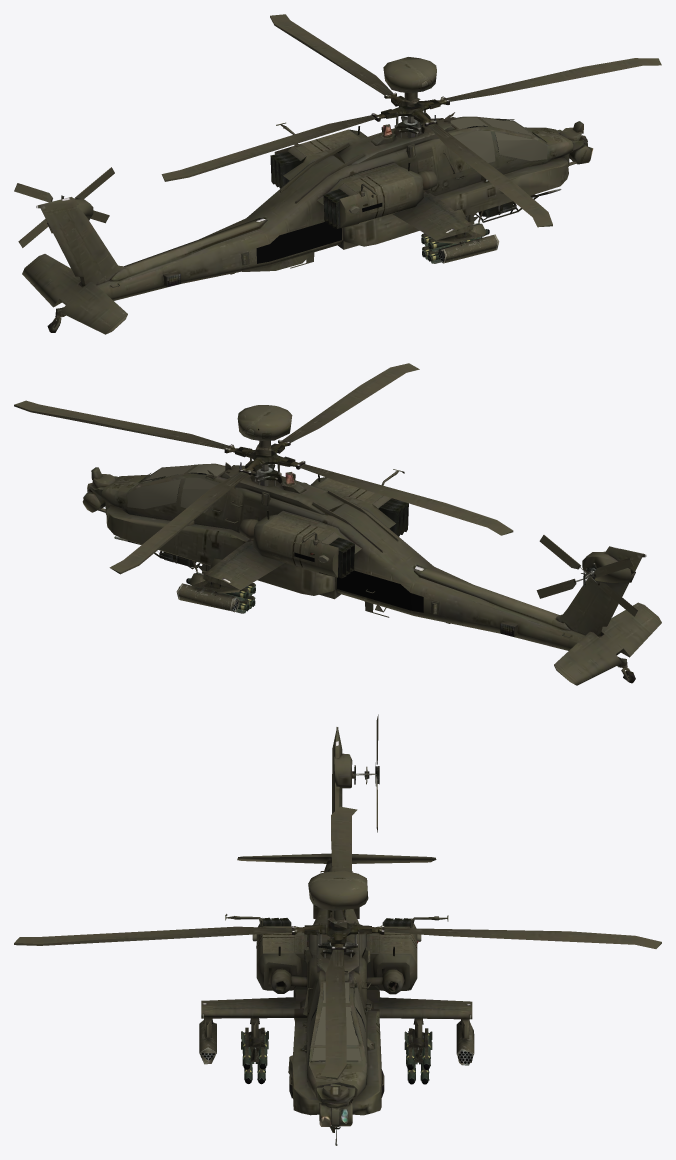
File: apache.lod0.glb
The picture shows the model from 3 angles, top to bottom: view 1: azimuth 30°, elevation 25°; view 2: azimuth 150°, elevation 25°; view 3: azimuth 270°, elevation 25°; orthographic projection. The views are drawn at different scales.
Visible parts, largest first — view 1: Object_8, Object_2, Object_7, Object_6; view 2: Object_8, Object_2, Object_7; view 3: Object_8, Object_7, Object_2, Object_6.
Boxes of the visible parts, bbox=[...] form: Object_8: bbox=[14, 14, 661, 334]; Object_2: bbox=[256, 117, 547, 263]; Object_7: bbox=[383, 57, 499, 263]; Object_6: bbox=[421, 223, 488, 263]; Object_8: bbox=[14, 363, 661, 685]; Object_2: bbox=[127, 464, 423, 612]; Object_7: bbox=[176, 405, 292, 612]; Object_8: bbox=[14, 714, 661, 1145]; Object_7: bbox=[199, 870, 474, 1073]; Object_2: bbox=[243, 934, 429, 1084]; Object_6: bbox=[241, 1031, 432, 1082].
Bounding box in the file's own units: 17.7 × 4.84 × 13.87.
Materials: 4 (3 with a texture image).
